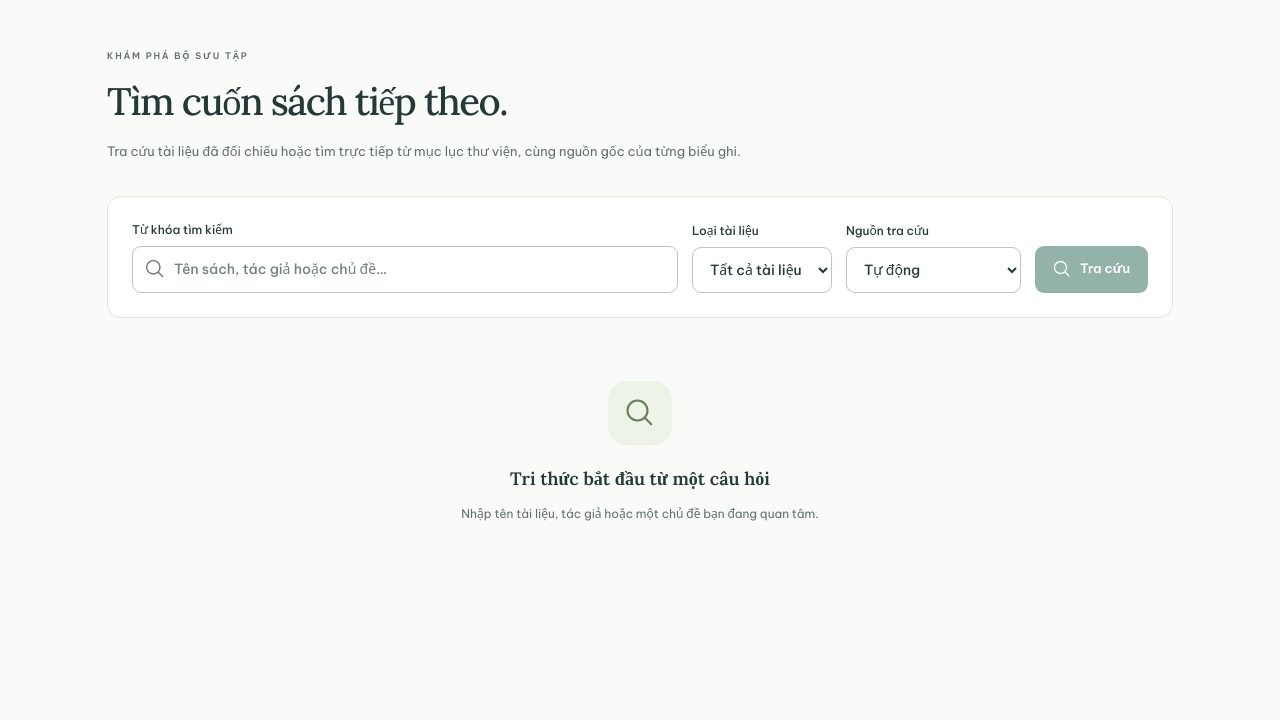
Test: labels local catalog snapshots and paginates the submitted query
Type "Python" into the field labelled "Từ khóa tìm kiếm" at (405, 269), box [132, 246, 678, 293]
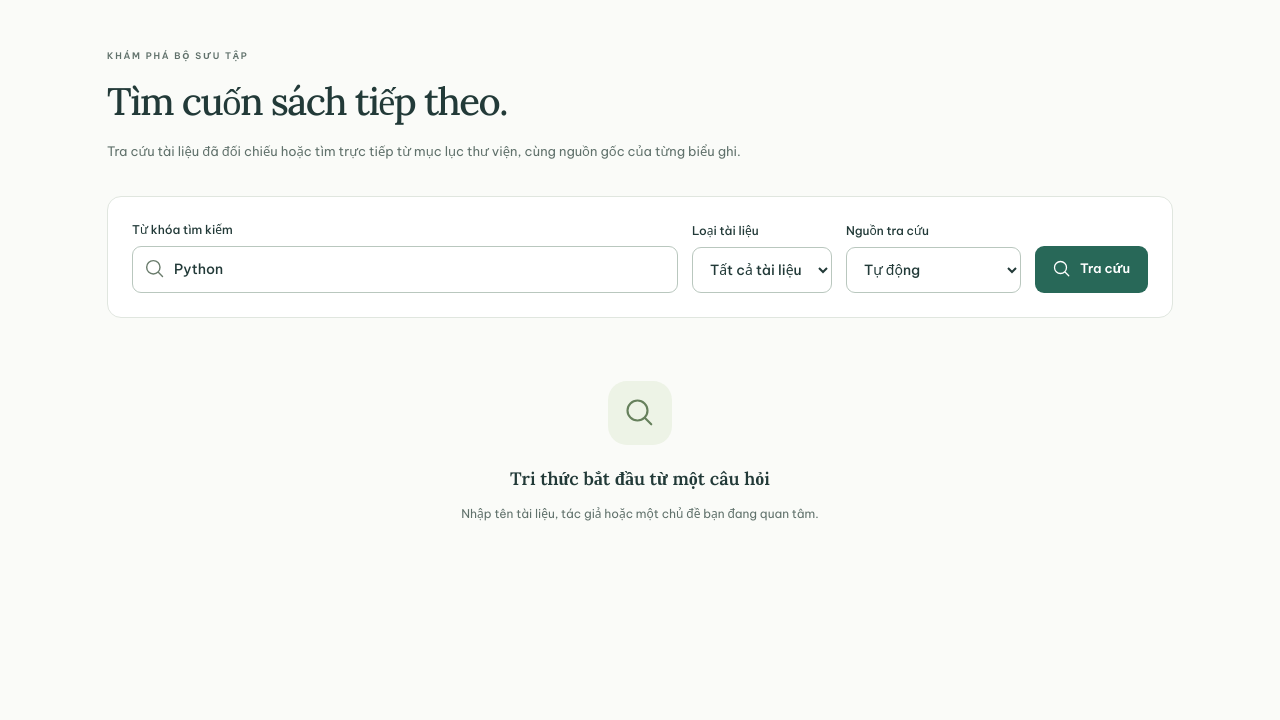
Select "Danh mục đã đối chiếu" in the dropdown labelled "Nguồn tra cứu" at (933, 270), box [846, 247, 1021, 293]
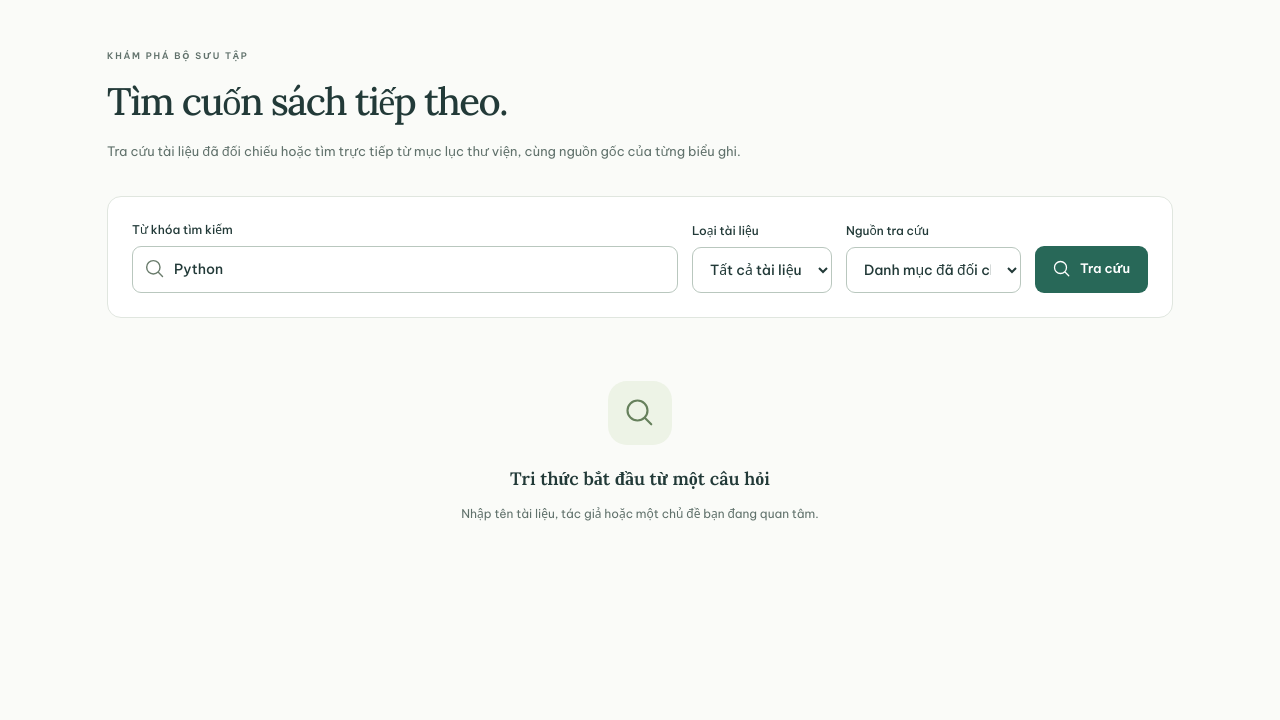
Click the button "Tra cứu" at (1091, 269), box [1035, 246, 1148, 293]
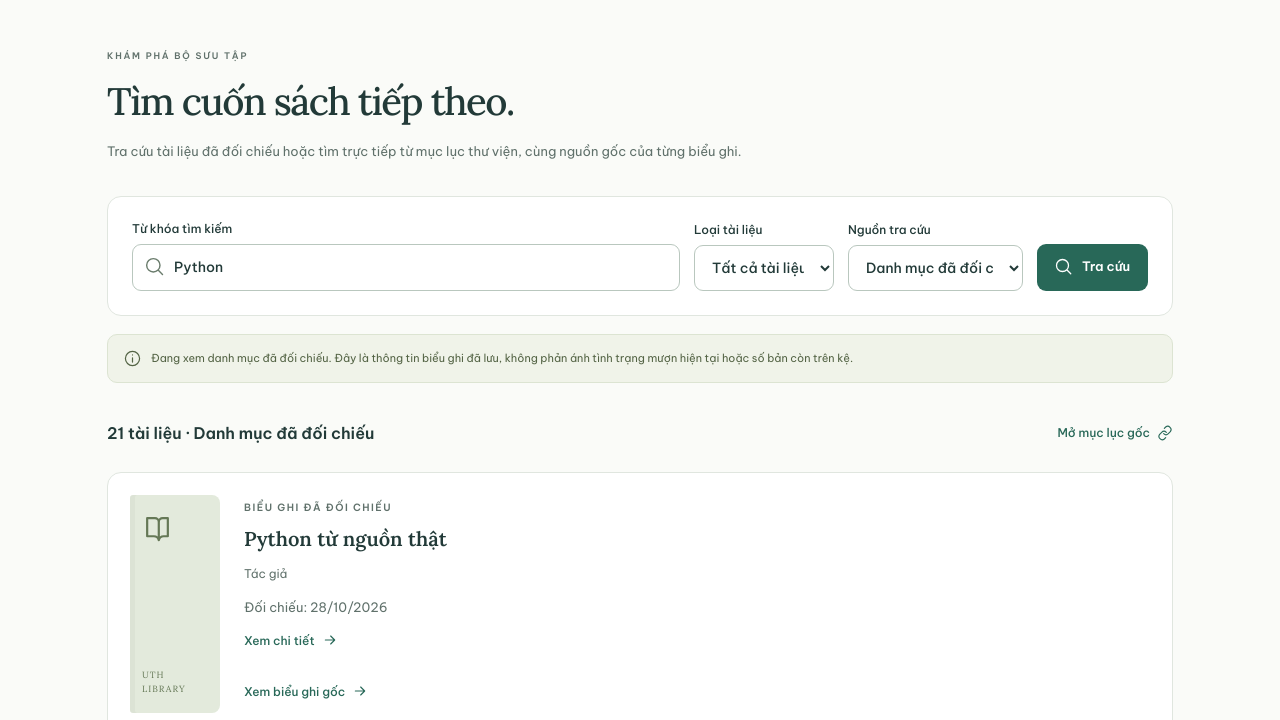
Check: the link "Python từ nguồn thật" is shown, box [244, 526, 447, 550]
Check: the text "không phản ánh tình trạng mượn hiện tại" is shown, box [151, 351, 853, 365]
Replace the text in the field labelled "Từ khóa tìm kiếm" with "Đã sửa nhưng chưa tìm" at (406, 267), box [132, 244, 680, 291]
(page scrolled)
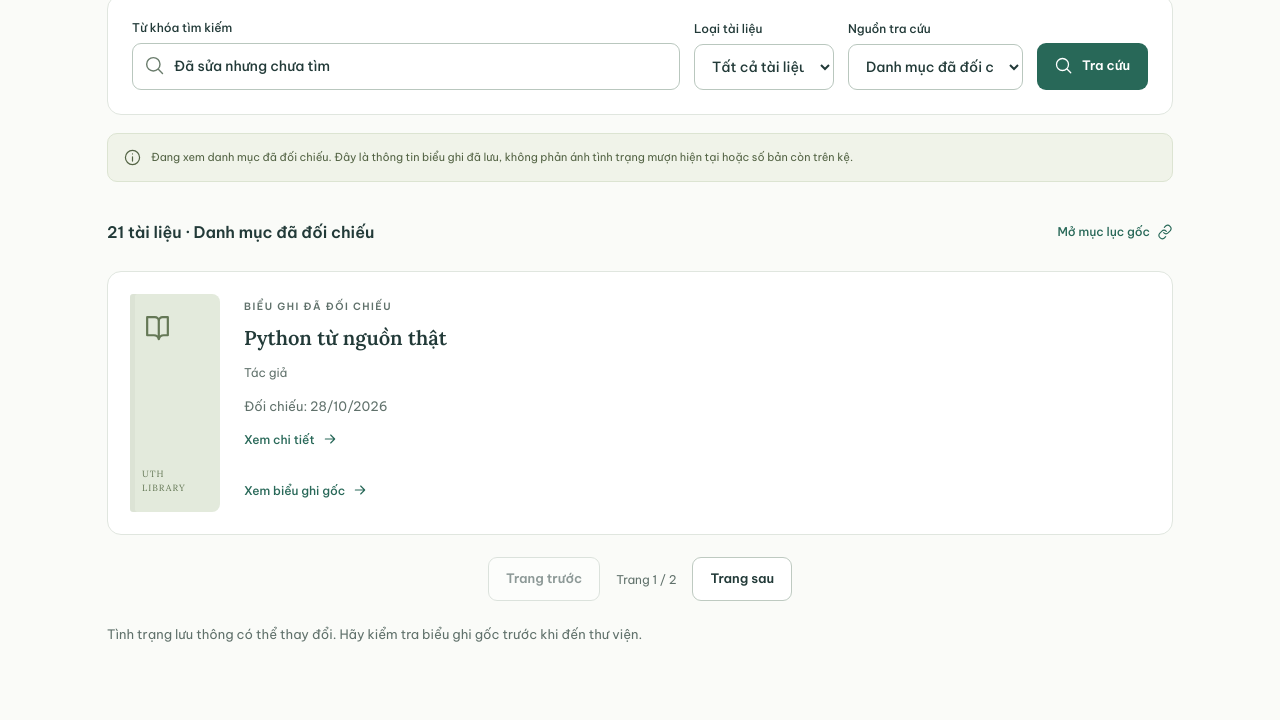
Click the button "Trang sau" at (742, 579), box [692, 557, 792, 601]
(page scrolled)
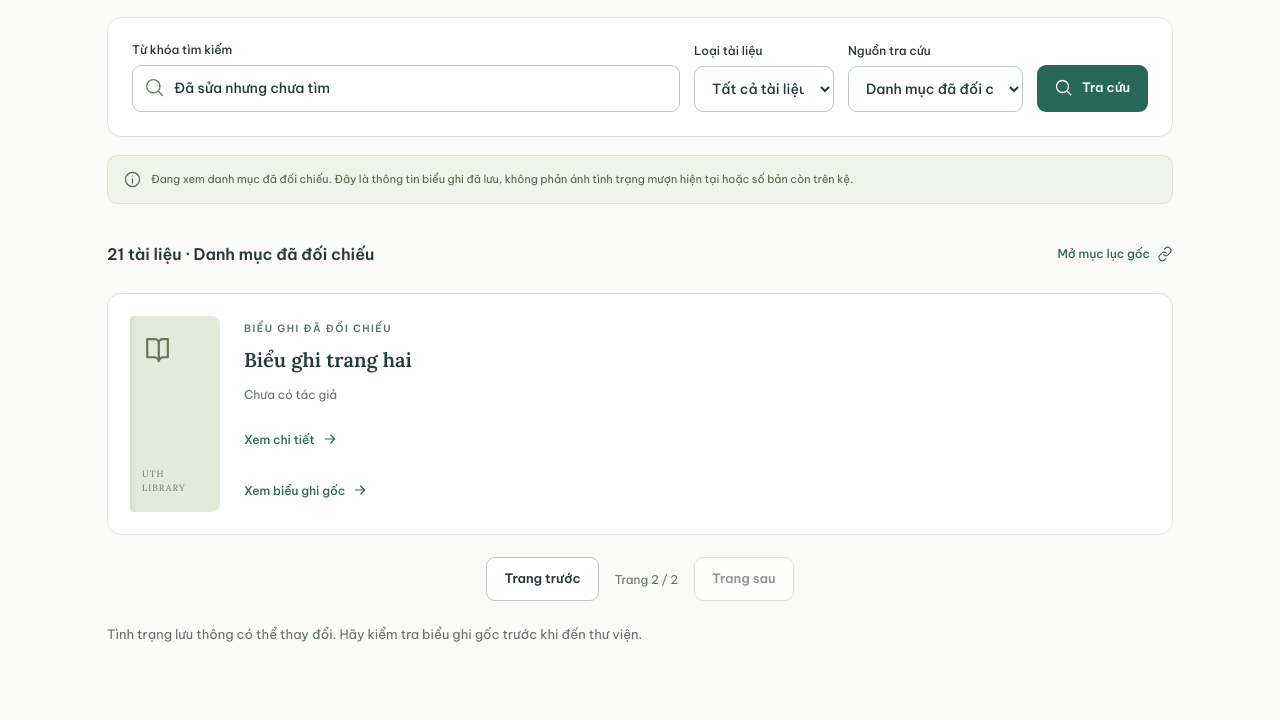
Check: the link "Biểu ghi trang hai" is shown, box [244, 346, 412, 372]
